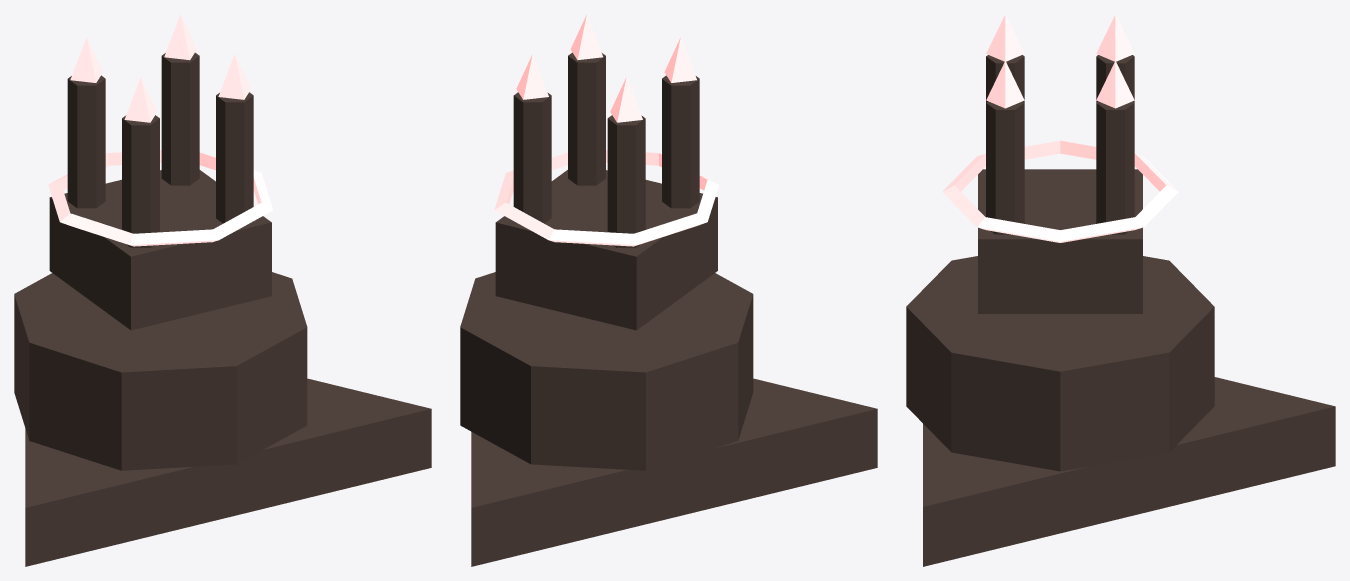
The model's file is tower_missile.glb.
3 views of the same model, side by side, from view 1: azimuth 30°, elevation 25°; view 2: azimuth 150°, elevation 25°; view 3: azimuth 270°, elevation 25° (orthographic).
Parts seen in each view (by area): view 1: tower_missile; view 2: tower_missile; view 3: tower_missile.
Part boxes in pixels (x1,y1,x2,y2): tower_missile: [14, 14, 431, 566]; tower_missile: [460, 14, 877, 566]; tower_missile: [906, 14, 1335, 566].
Size of the model in its own units: 0.866 by 0.86 by 0.78.
